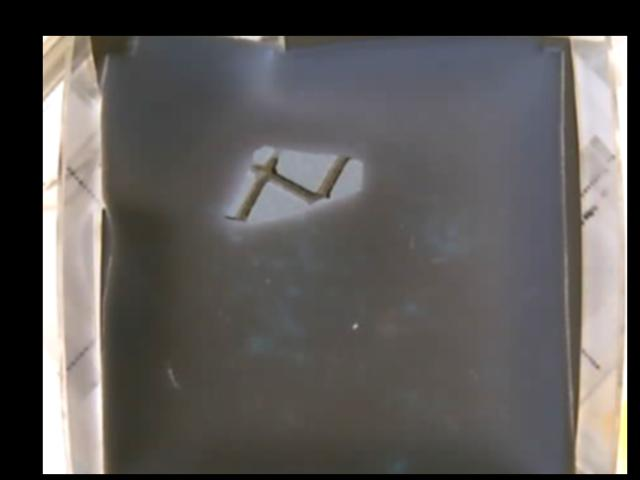China: (225, 147, 366, 225)
